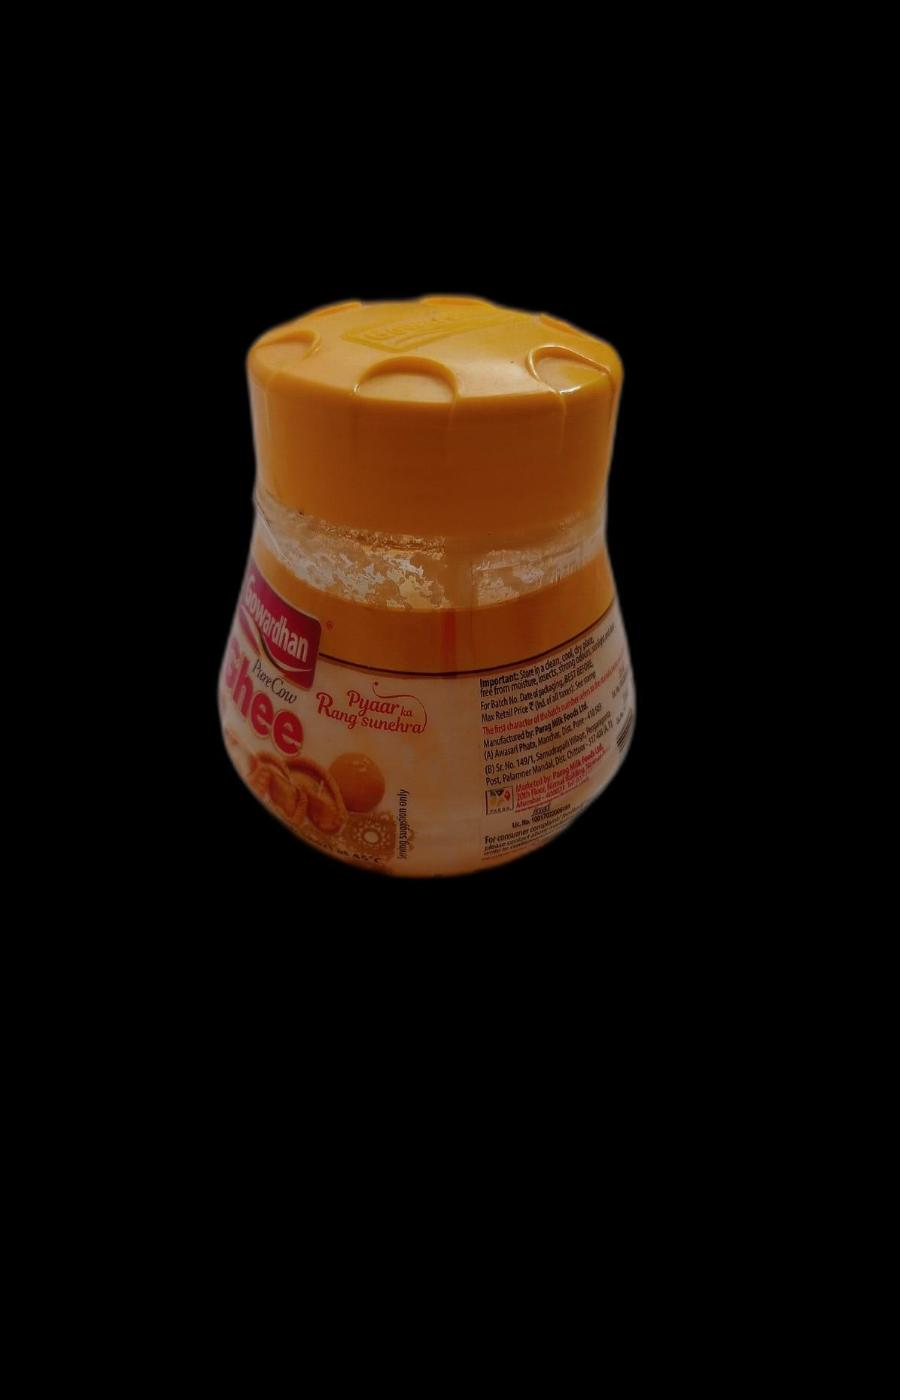Govardhan Pure cow Ghee -200ml-: (191, 283, 669, 889)
